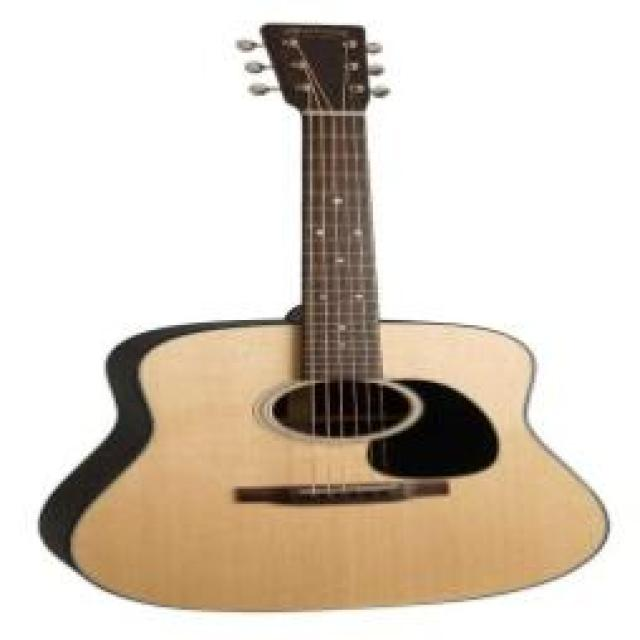acousticguitar: (43, 23, 605, 607)
